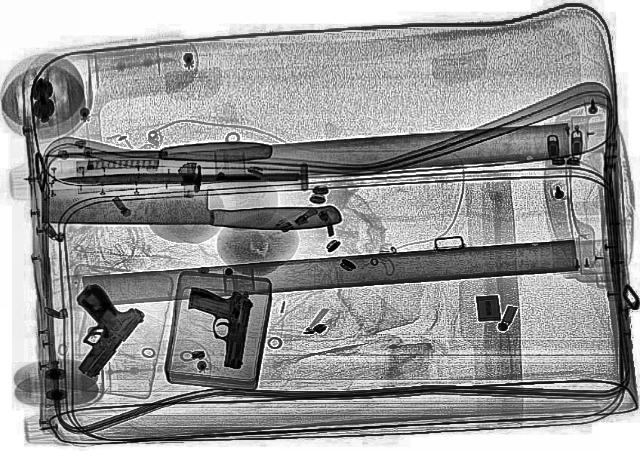Gun: (26, 280, 156, 378), (176, 285, 254, 369)
Knife: (39, 186, 340, 228), (46, 140, 272, 163), (58, 170, 300, 184)
